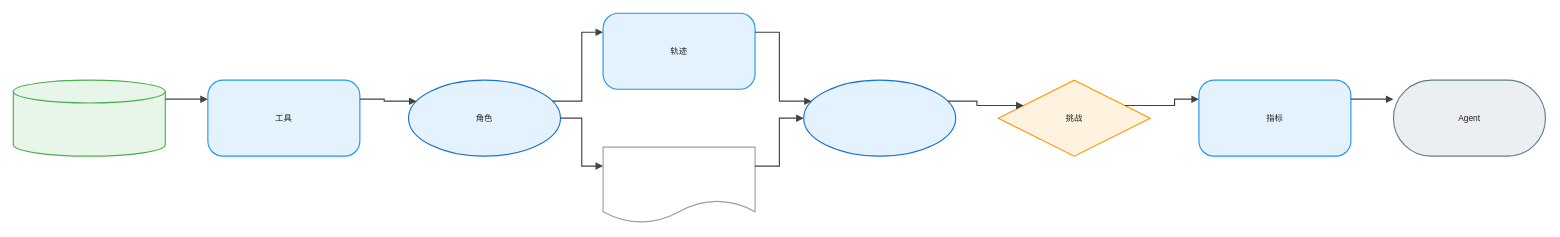
This 1560x237 diagram has some shape labels left out. Each missing label, with the centre of its shape:
"API" belongs at (x=89, y=117).
"专家" belongs at (x=879, y=117).
"任务" belongs at (x=678, y=184).
